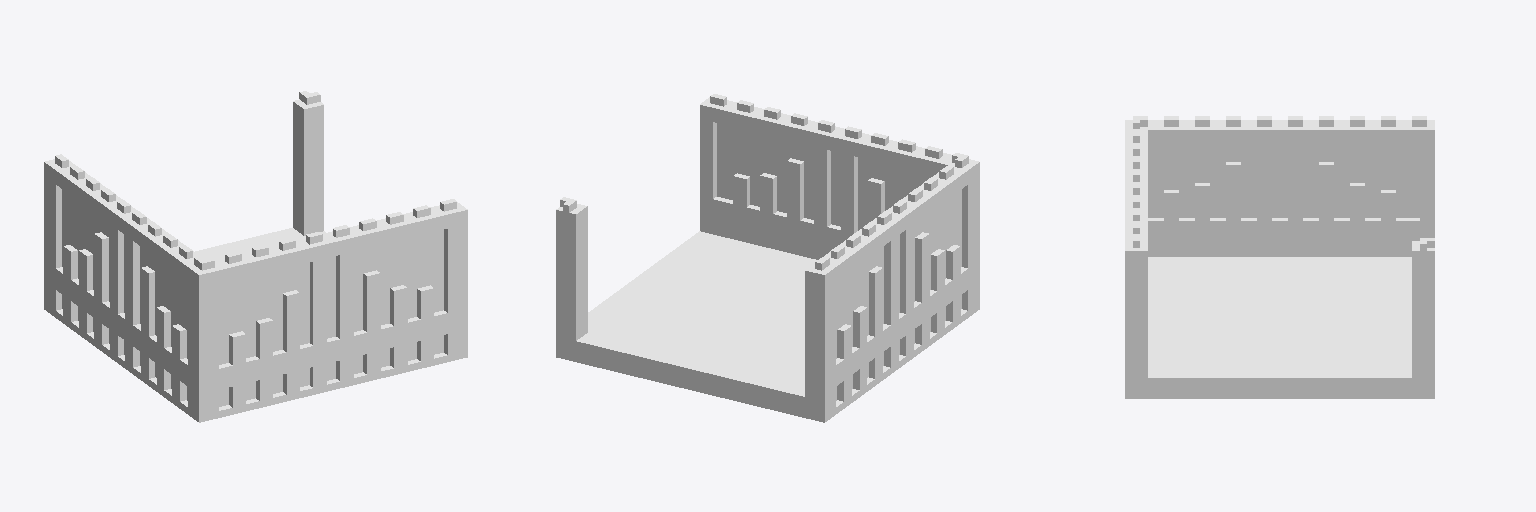
Rendered from Corner2-1-Corner.obj.
3 renders of one model, left to right at view 1: azimuth 30°, elevation 25°; view 2: azimuth 150°, elevation 25°; view 3: azimuth 270°, elevation 25°, orthographic.
Parts seen in each view (by area): view 1: Corner; view 2: Corner; view 3: Corner.
Boxes of the visible parts, box(x1,y1,x2,y2) form: Corner: box(44, 91, 467, 422); Corner: box(556, 94, 979, 422); Corner: box(1125, 116, 1434, 398).
Size of the model in its own units: 4 by 2.2 by 4.